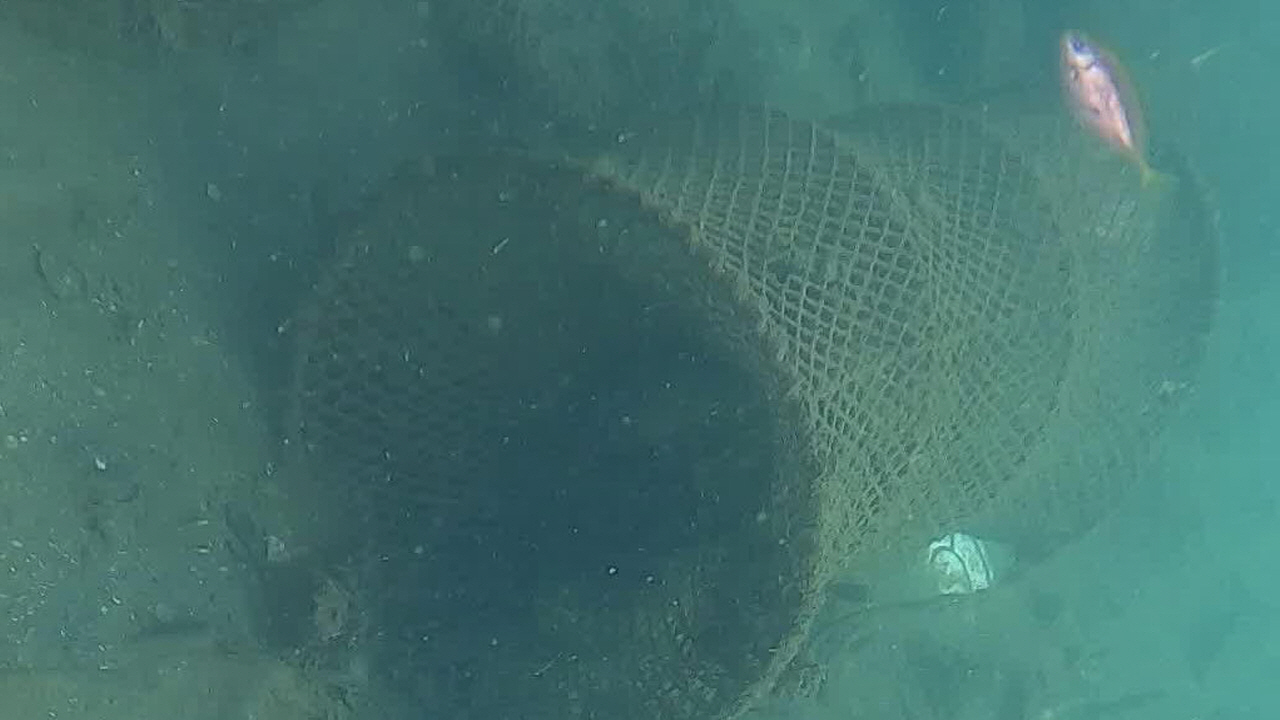spring fish trap: (275, 94, 1225, 720)
